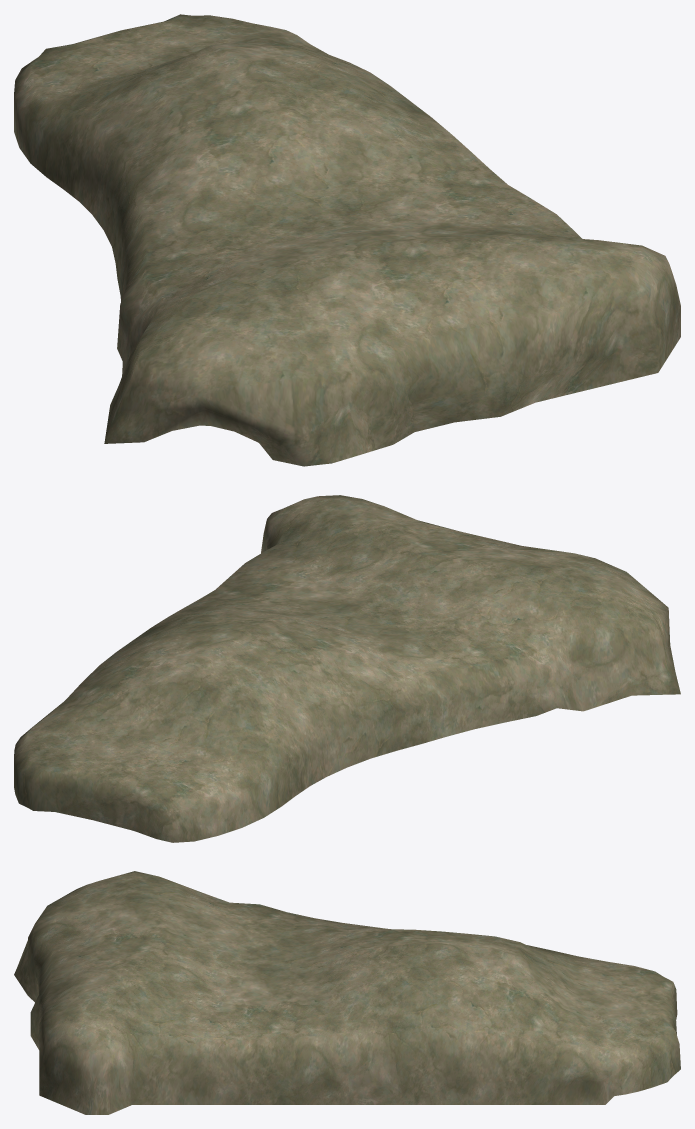
File: EKH_BARRELROOM_PS_JA1_CEILING94847.fbx
3 renders of one model, top to bottom at view 1: azimuth 30°, elevation 25°; view 2: azimuth 150°, elevation 25°; view 3: azimuth 270°, elevation 25°, orthographic. The views are drawn at different scales.
Visible parts, largest first — view 1: EKH_BARRELROOM_PS_JA1_CEILING94847; view 2: EKH_BARRELROOM_PS_JA1_CEILING94847; view 3: EKH_BARRELROOM_PS_JA1_CEILING94847.
Part boxes in pixels (x1,y1,x2,y2): EKH_BARRELROOM_PS_JA1_CEILING94847: (14,14,680,466); EKH_BARRELROOM_PS_JA1_CEILING94847: (14,495,680,842); EKH_BARRELROOM_PS_JA1_CEILING94847: (14,871,680,1114).
Bounding box in the file's own units: 202174 × 48318 × 287963.
Materials: 1 (1 with a texture image).
